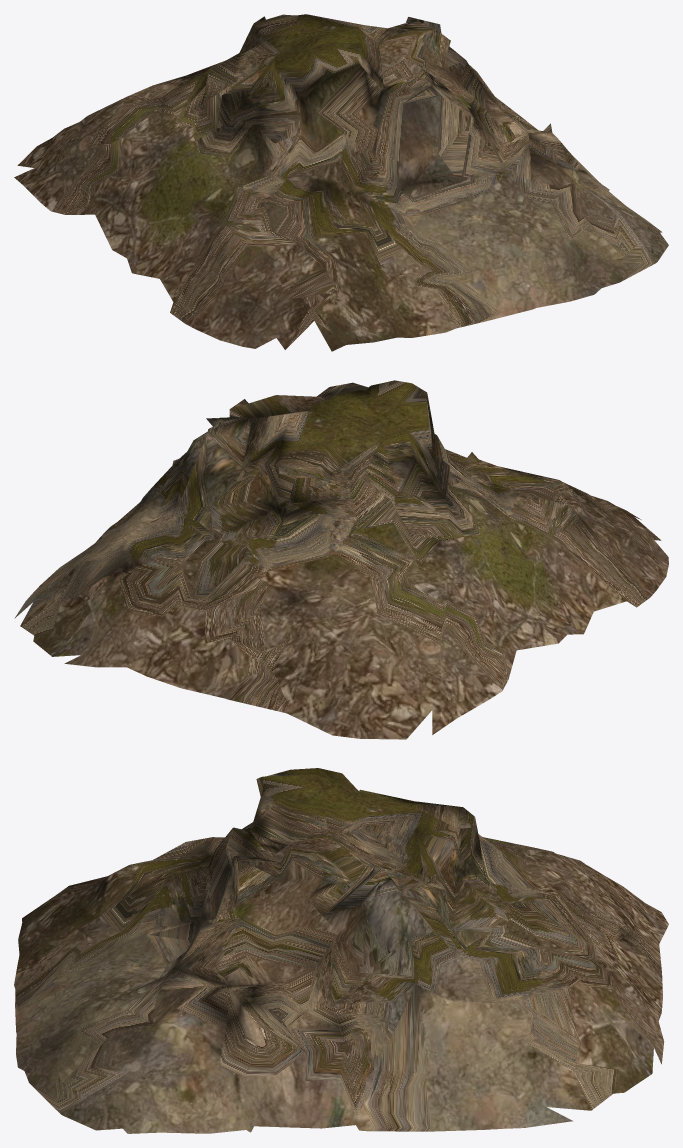
Rendered from tree_stump_01_lod1.glb.
3 renders of one model, top to bottom at view 1: azimuth 30°, elevation 25°; view 2: azimuth 150°, elevation 25°; view 3: azimuth 270°, elevation 25°, orthographic. The views are drawn at different scales.
Visible parts, largest first — view 1: tree_stump_01; view 2: tree_stump_01; view 3: tree_stump_01.
Part boxes in pixels (x1=…): tree_stump_01: x1=14, y1=14, x2=668, y2=351; tree_stump_01: x1=14, y1=380, x2=668, y2=739; tree_stump_01: x1=14, y1=768, x2=668, y2=1133.
Bounding box in the file's own units: 1.41 × 0.5593 × 1.55.
Materials: 1 (1 with a texture image).
